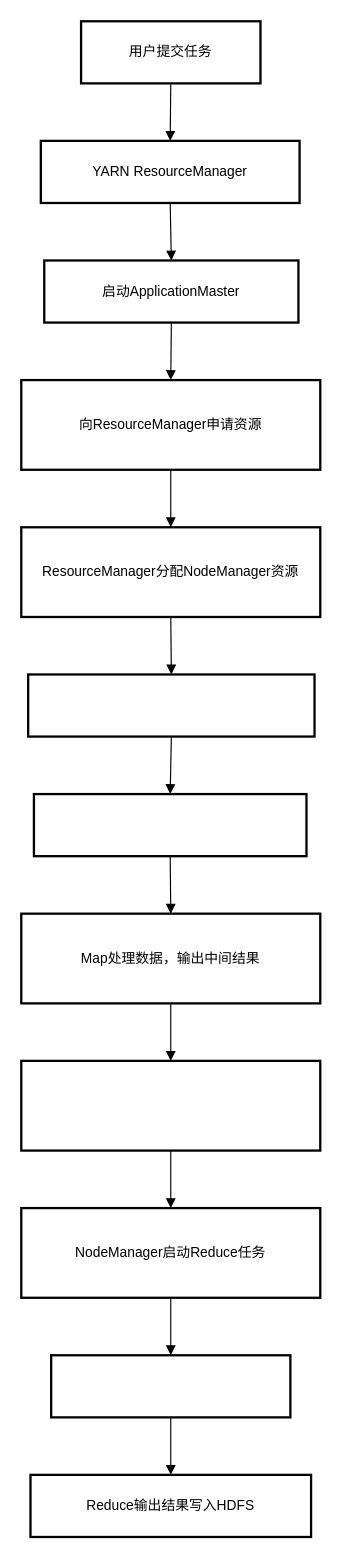
Image size: 340x1557. Some labels were removed from this diagram. The centre of each missing label's shape, as x and y in pixels:
"Map任务读取HDFS数据块" goes at (169,824).
"NodeManager启动Map任务" goes at (170,705).
"Reduce合并中间结果" goes at (170,1386).
"Shuffle阶段：中间结果传输到Reduce节点" goes at (170,1105).
